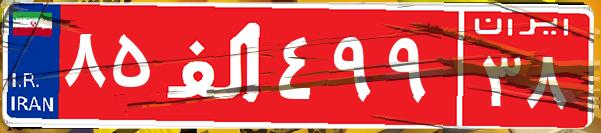3: (475, 38, 525, 113)
4: (273, 28, 330, 110)
5: (110, 28, 158, 105)
8: (57, 26, 110, 107), (525, 38, 570, 115)
9: (385, 28, 445, 110), (330, 28, 385, 110)
الف: (158, 15, 273, 115)
